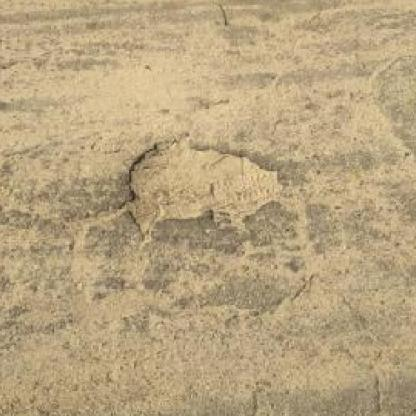pothole: (119, 131, 286, 240)
